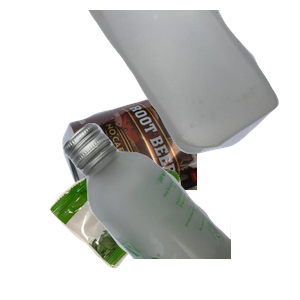glass: (60, 120, 300, 300)
metal: (60, 79, 300, 259)
plastic: (84, 10, 300, 157)
trash: (47, 146, 220, 300)
